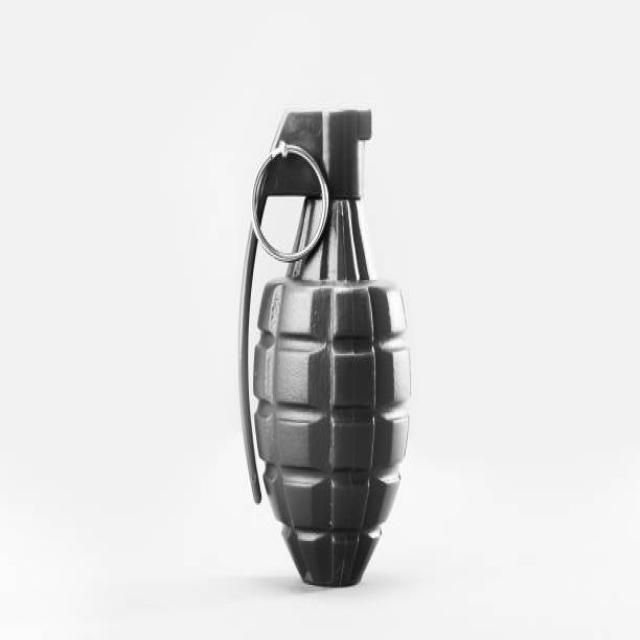grenade: (228, 86, 419, 602)
